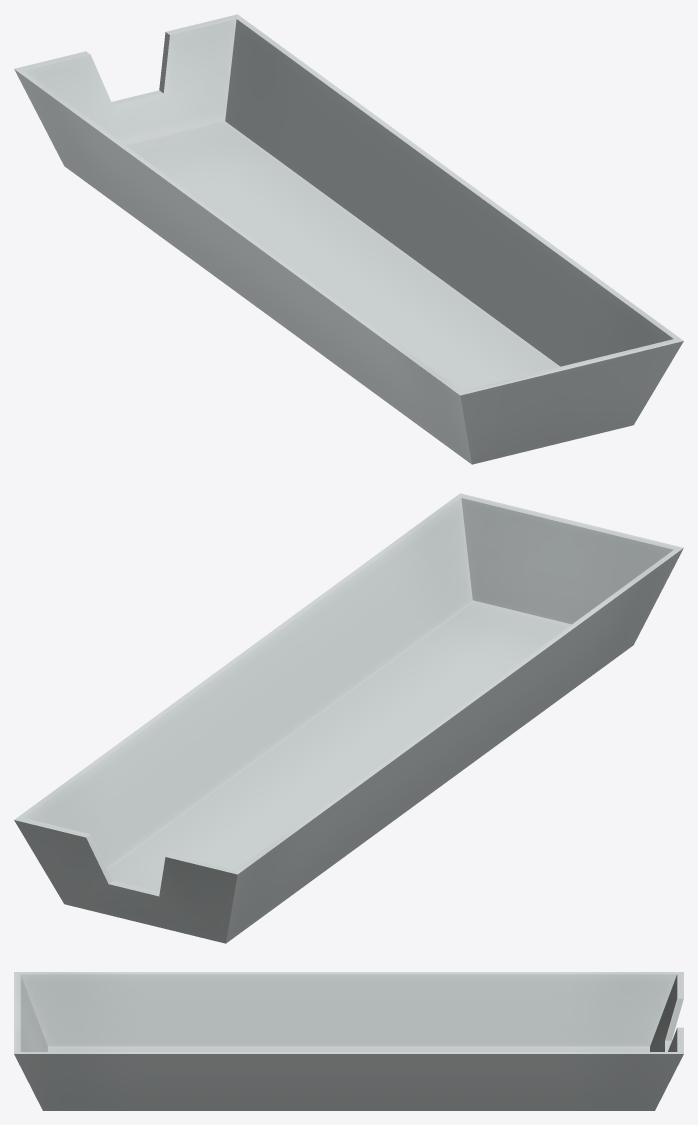
Rendered from jsf_PlasticTray_01.fbx.
3 views of the same model, one above another, from view 1: azimuth 30°, elevation 25°; view 2: azimuth 150°, elevation 25°; view 3: azimuth 270°, elevation 25° (orthographic). The views are drawn at different scales.
Visible parts, largest first — view 1: jsf_PlasticTray_01; view 2: jsf_PlasticTray_01; view 3: jsf_PlasticTray_01.
Boxes of the visible parts, left/top/right/bottom form: jsf_PlasticTray_01: left=14, top=14, right=683, bottom=464; jsf_PlasticTray_01: left=14, top=493, right=683, bottom=943; jsf_PlasticTray_01: left=14, top=972, right=683, bottom=1110.
Bounding box in the file's own units: 5.08 × 1.97 × 17.55.
